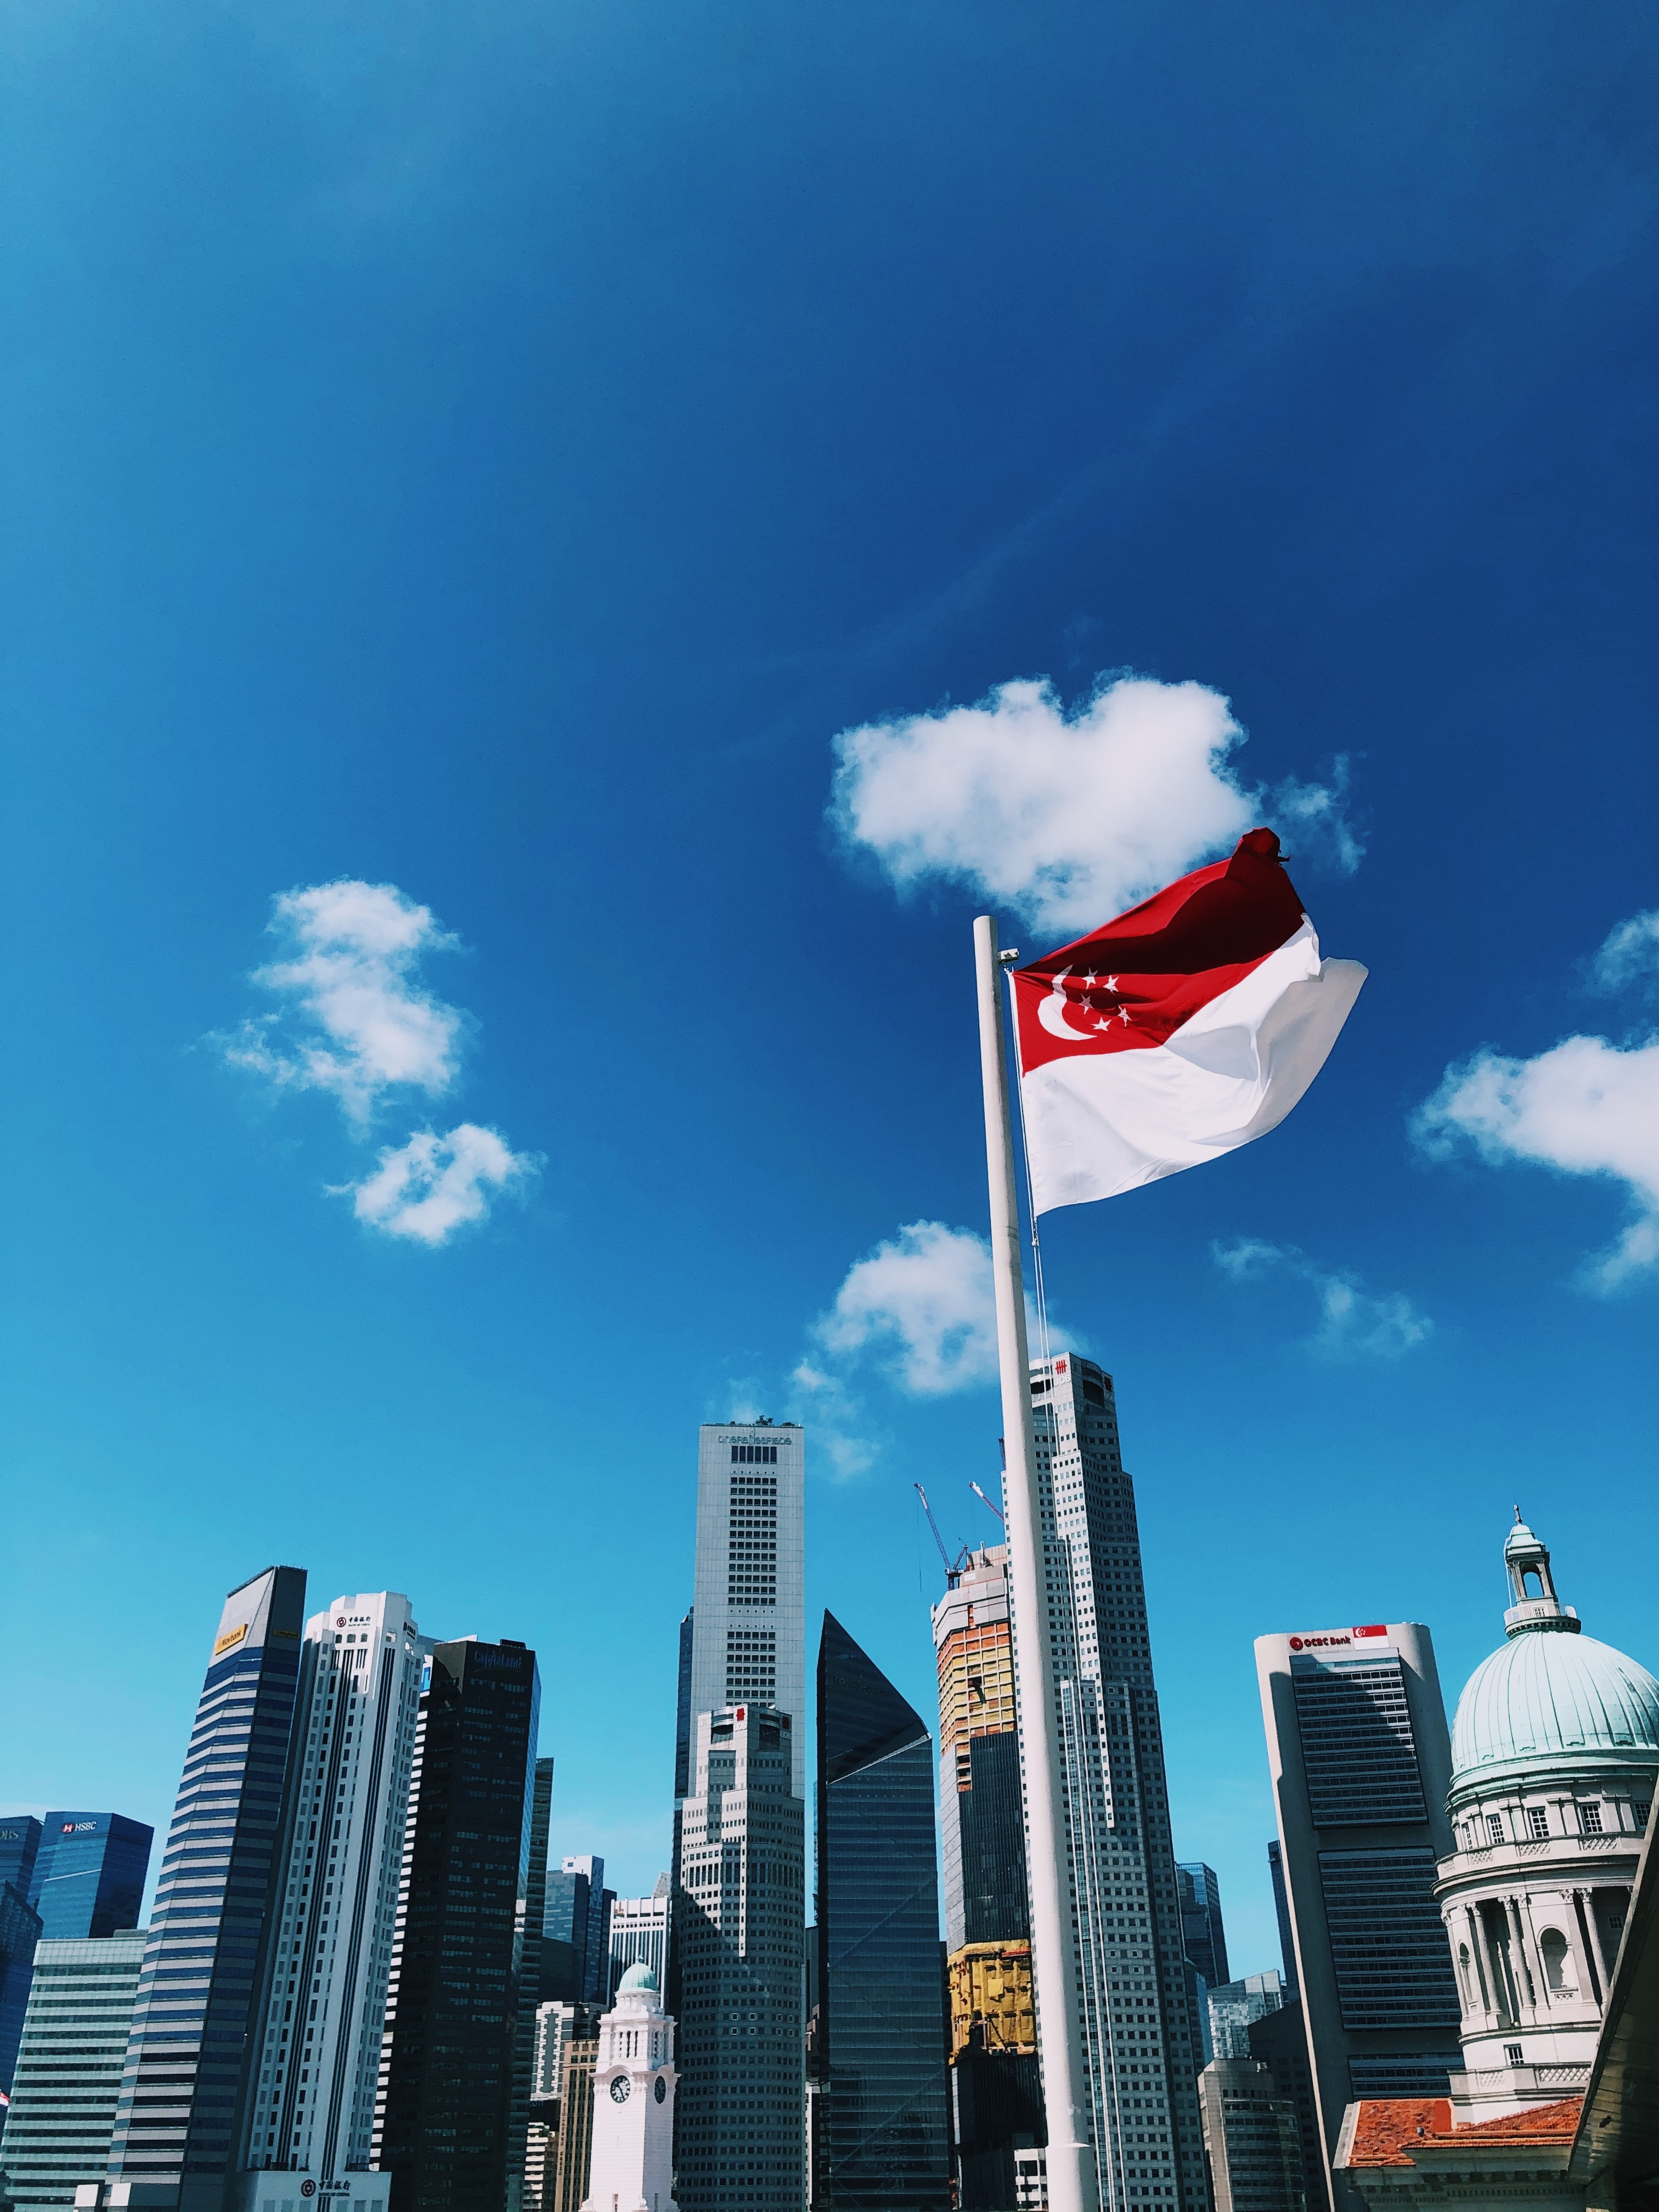Flag: (986, 831, 1370, 1231)
